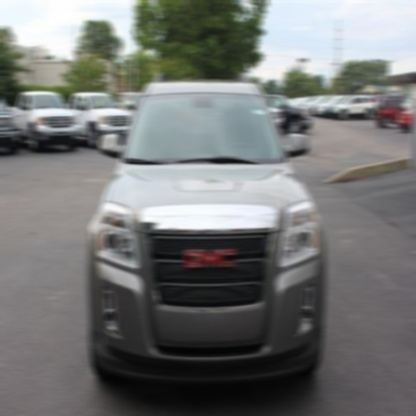Vehicle: (85, 79, 327, 373)
